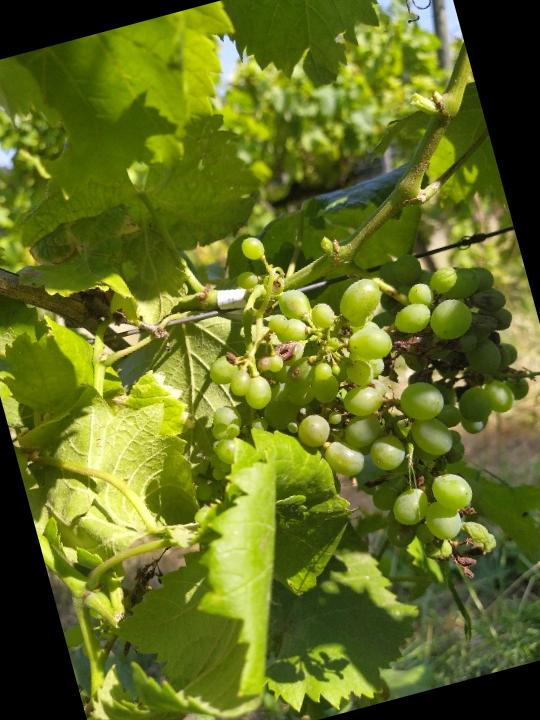grape: (173, 173, 540, 635)
